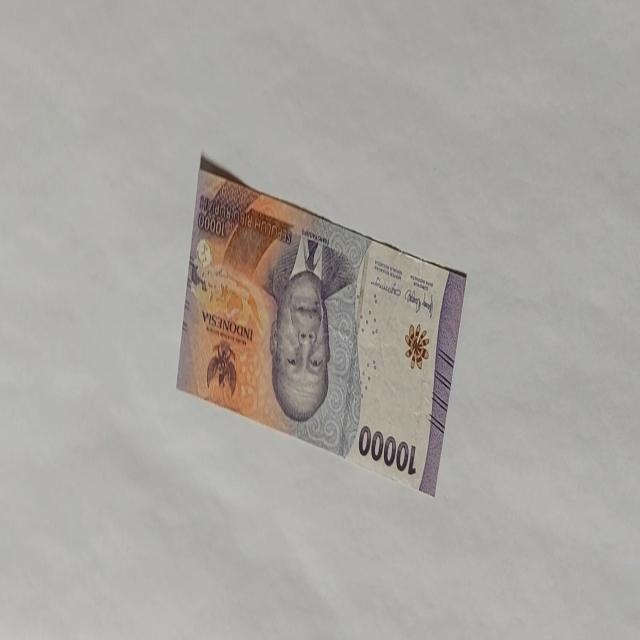sepuluh ribu rupiah: (175, 154, 468, 498), (358, 423, 418, 477)
